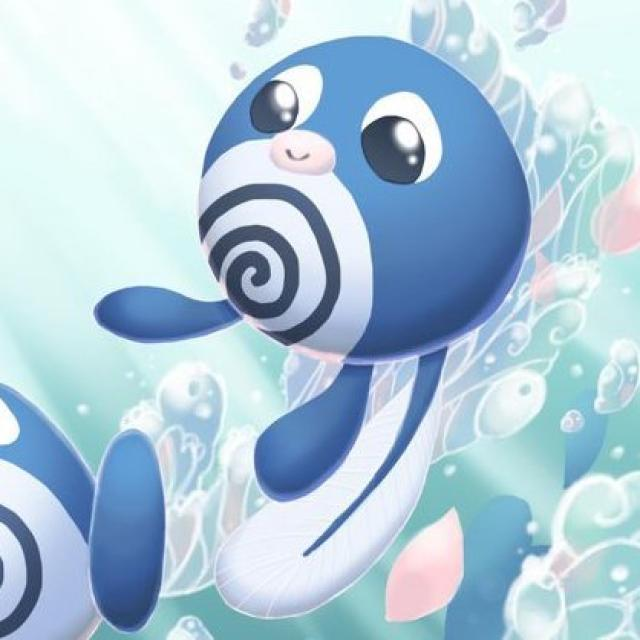Poliwag: (186, 37, 528, 391)
